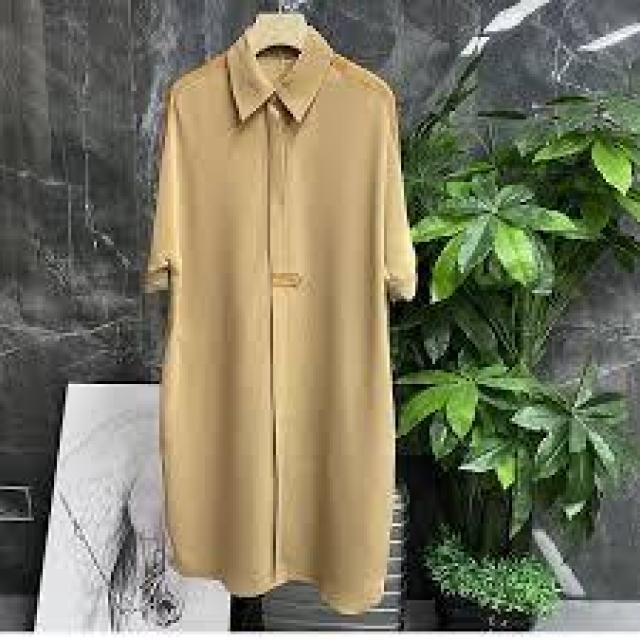shirt: (102, 25, 436, 624)
